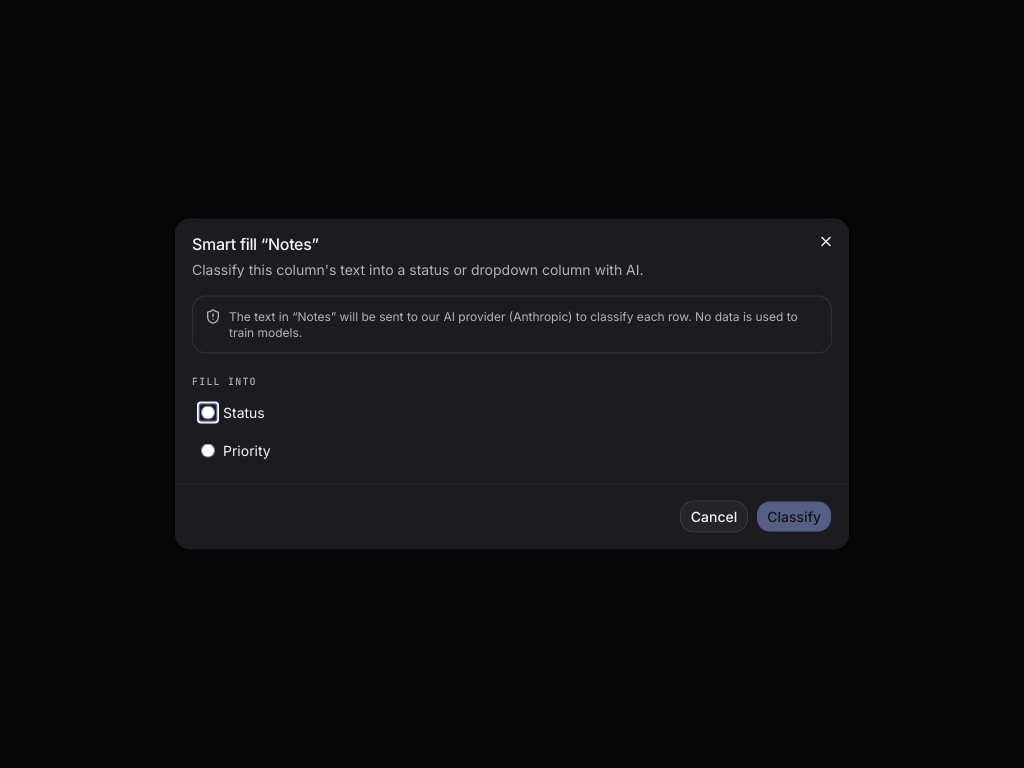
it: SmartFillDialog › classifies against the chosen target and renders the preview grid
This screenshot has width=1024, height=768.
Click the radio button labelled "Status". click: [208, 412]
box: [201, 406, 215, 420]
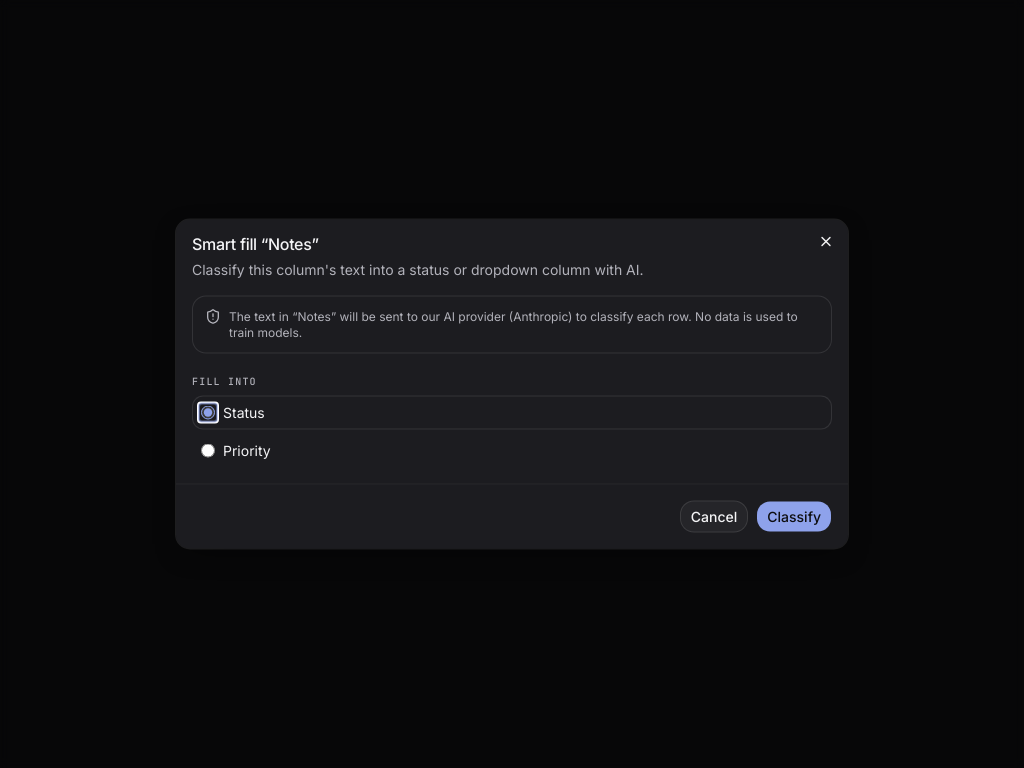
Click the button "Classify". click: [794, 516]
box: [756, 500, 832, 532]
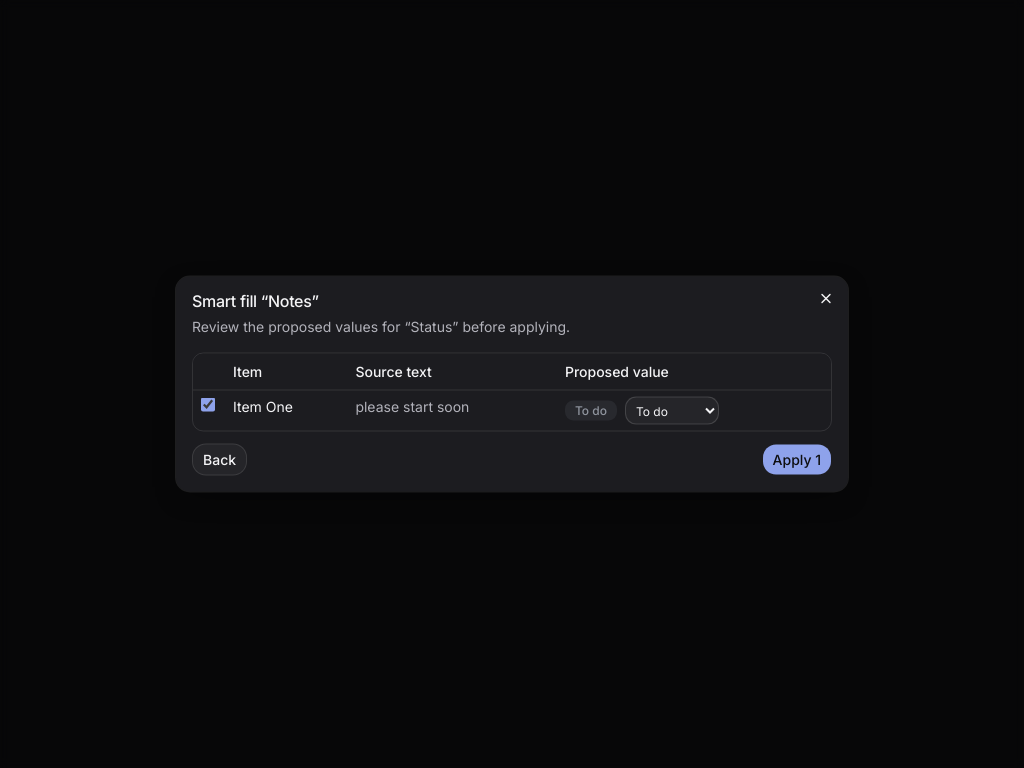
Check: the text "please start soon" is shown, box [347, 390, 557, 430]
Check: the button "Apply 1" is shown, box [762, 444, 832, 476]
